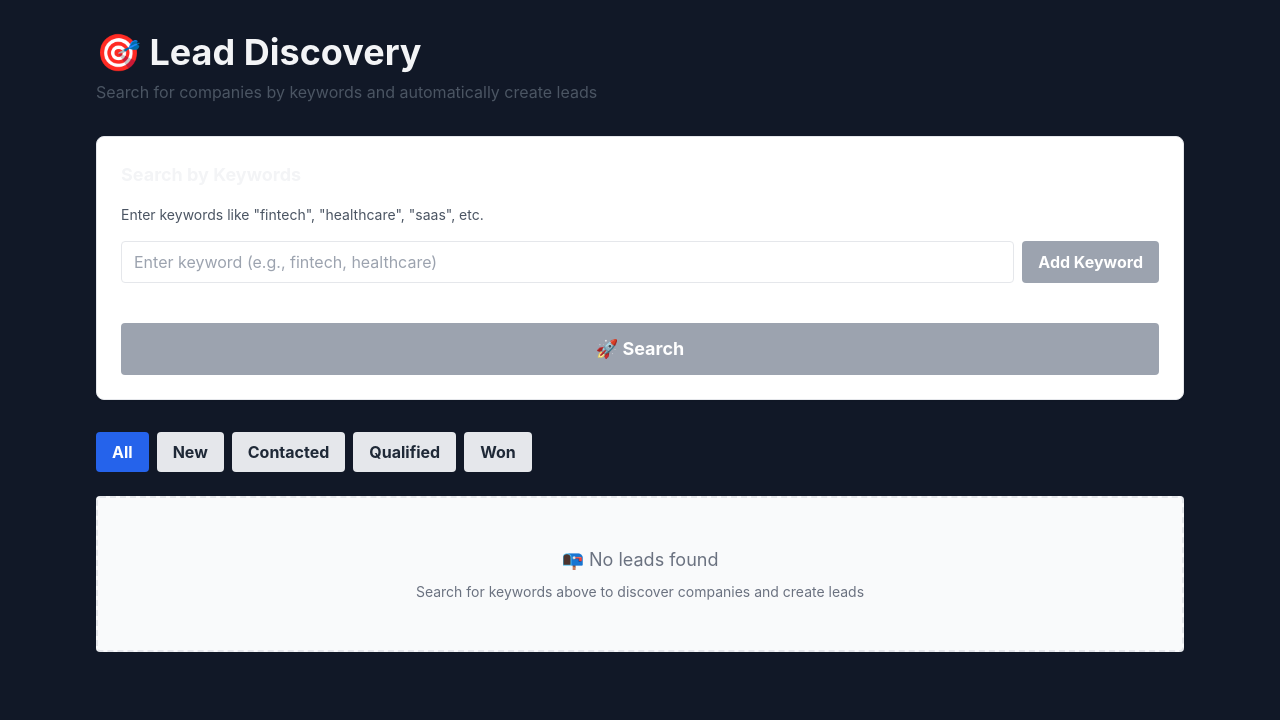
Test: LeadDiscovery › Keyword Management › should remove keyword when X clicked
Type "saas" into the field with placeholder "Enter keyword (e.g., fintech, healthcare)" at (568, 262), box [121,241,1014,283]
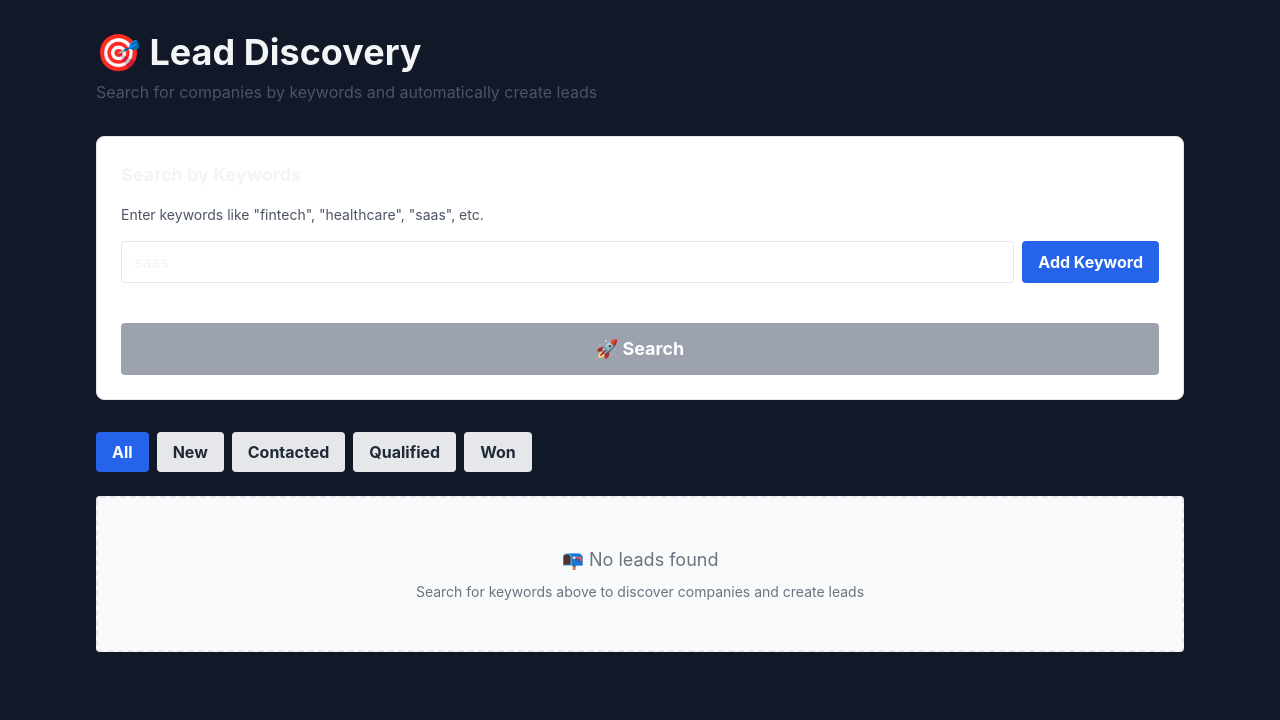
Click the button "Add Keyword" at (1091, 262), box [1022,241,1159,283]
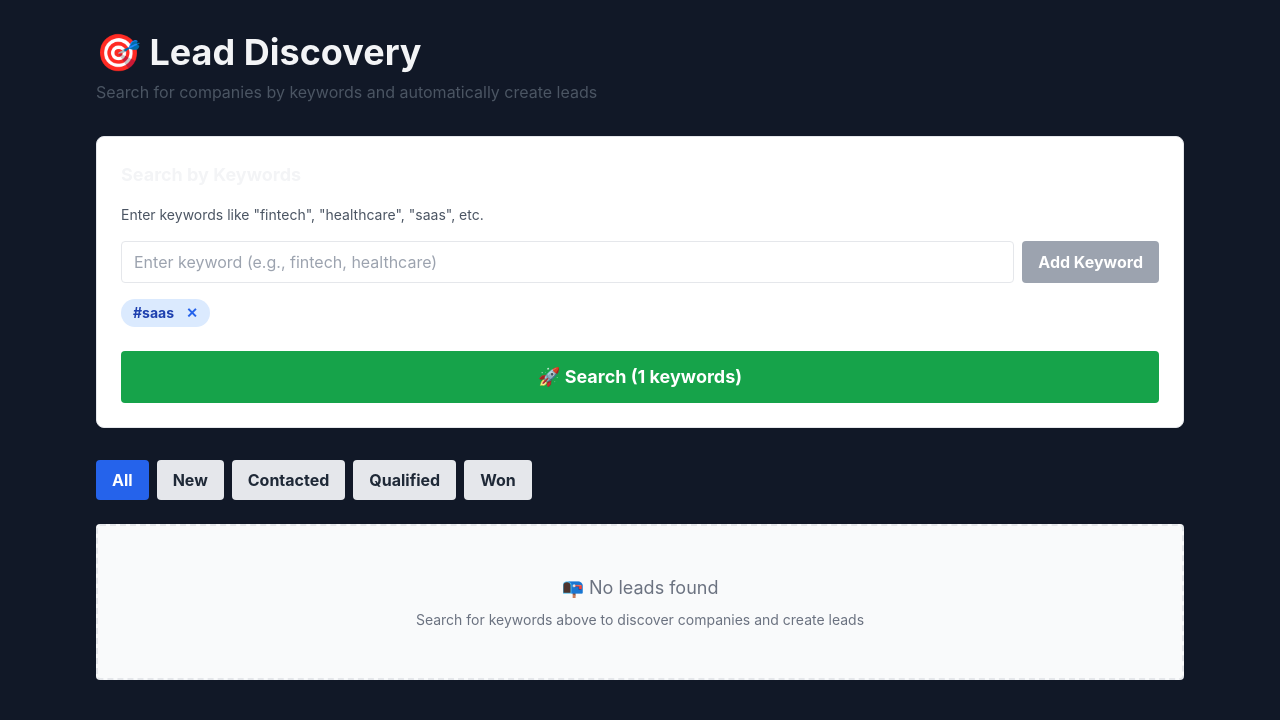
Expected: the text "#saas" is shown, [121,299,210,327]
Click the button "✕" at (192, 313), box [186,303,198,323]
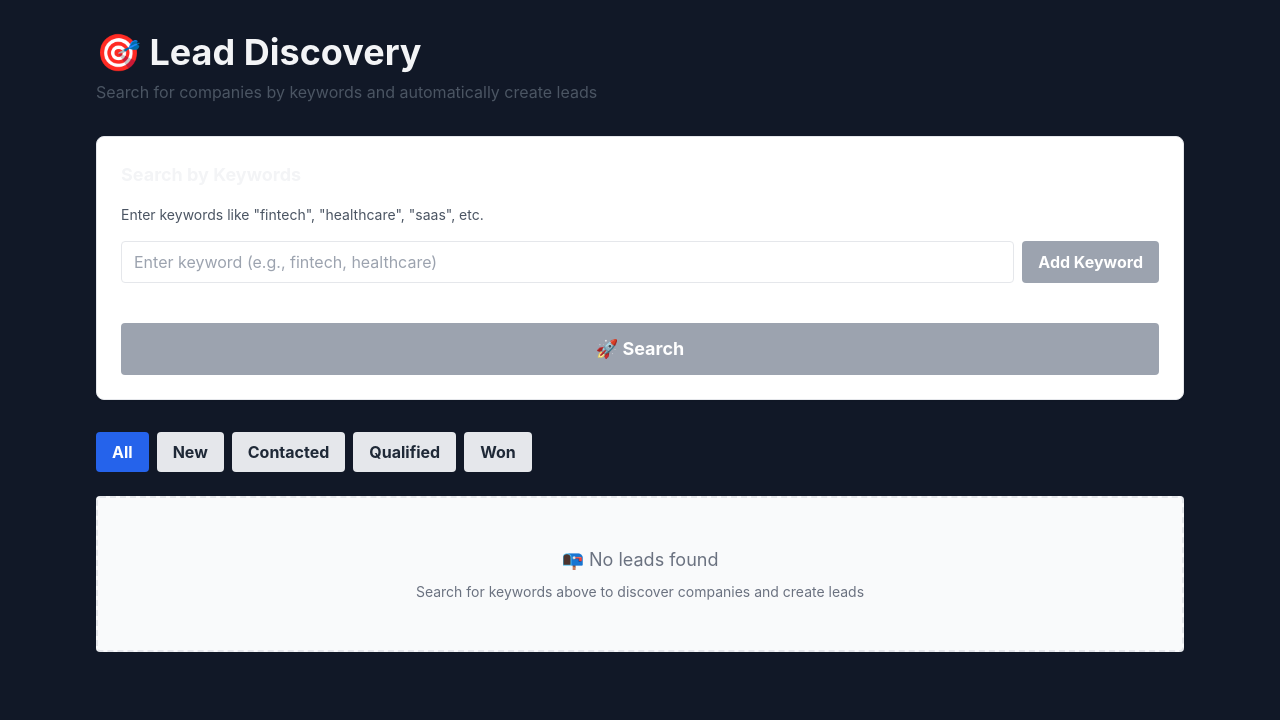
Expected: the text "#saas" is gone
